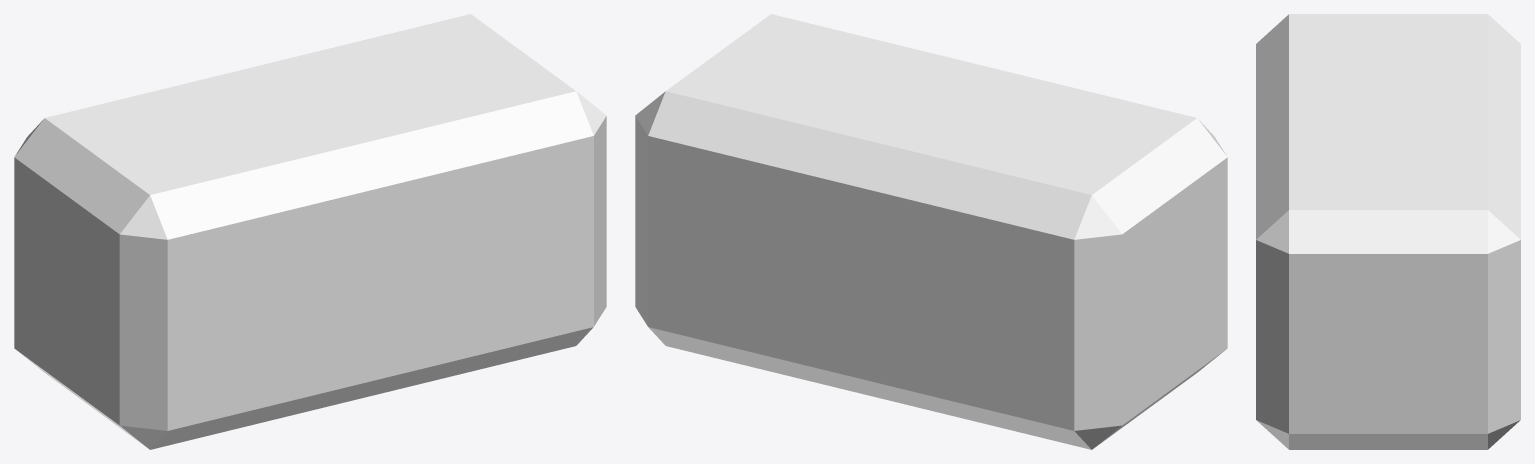
Rendered from Brick.fbx.
3 views of the same model, side by side, from view 1: azimuth 30°, elevation 25°; view 2: azimuth 150°, elevation 25°; view 3: azimuth 270°, elevation 25° (orthographic). The views are drawn at different scales.
Visible parts, largest first — view 1: Brick; view 2: Brick; view 3: Brick.
Boxes of the visible parts, x1,y1,x2,y2 form: Brick: [14, 14, 606, 449]; Brick: [635, 14, 1227, 449]; Brick: [1256, 14, 1520, 449].
Bounding box in the file's own units: 200 × 100 × 100.
